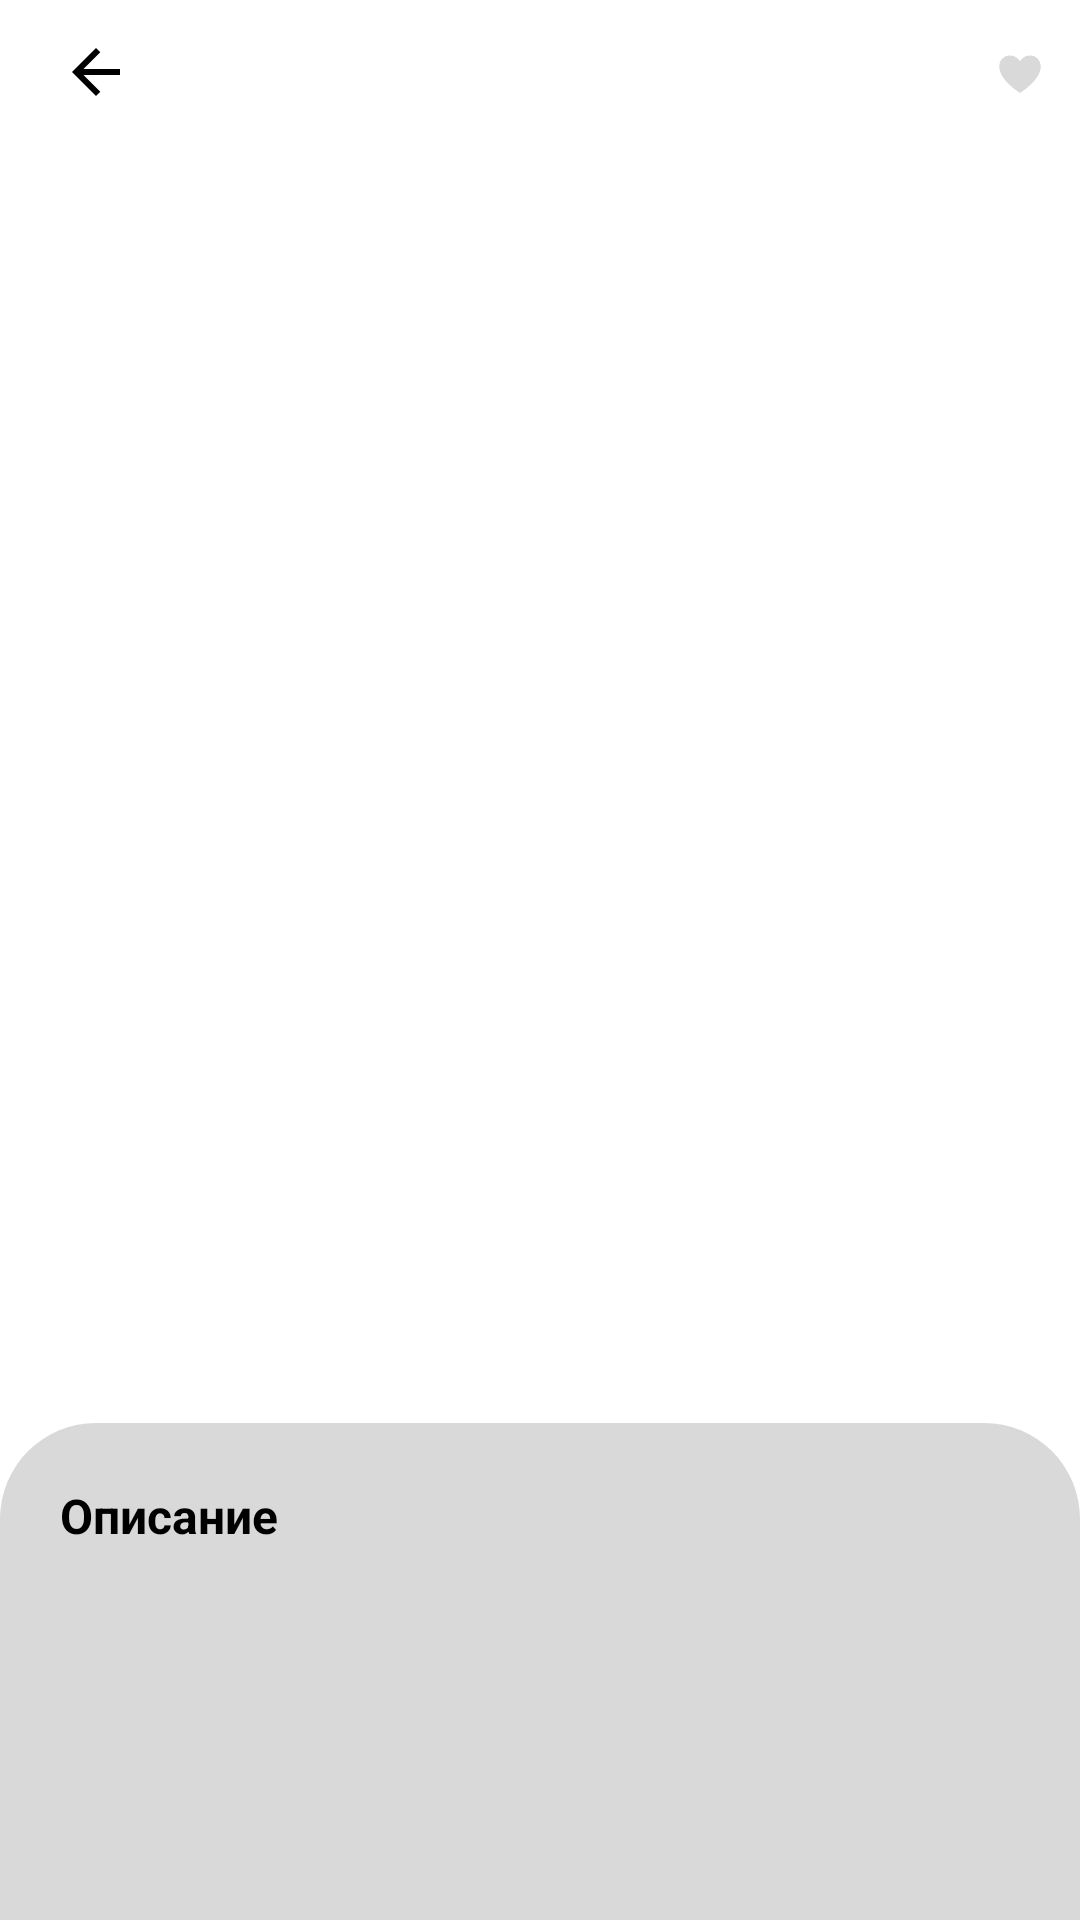

Locate icon controls on the screen. Image size 1080px×1920px, boxes as rect(x1, y1, x2, y2).
arrow back: rect(72, 48, 120, 96)
favorite: rect(999, 56, 1041, 93)
